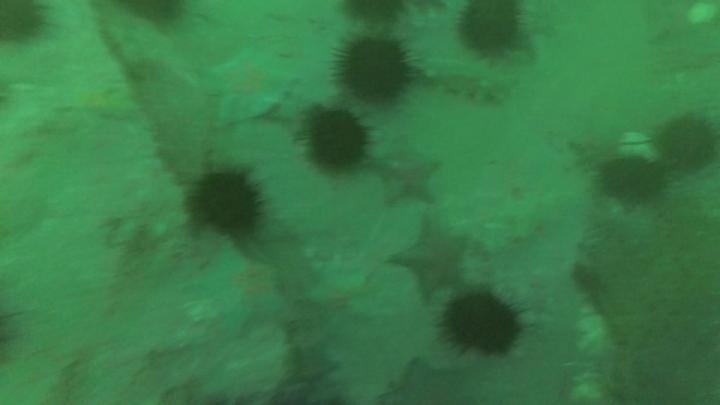echinus: (333, 34, 415, 104), (440, 290, 524, 358), (187, 169, 266, 238), (302, 107, 372, 174), (651, 111, 719, 172), (455, 1, 526, 59), (597, 155, 666, 204), (117, 1, 191, 31), (0, 1, 49, 46), (339, 1, 410, 28)
holothurian: (419, 54, 515, 108)
starfish: (186, 241, 290, 336), (200, 45, 295, 127), (387, 214, 472, 300), (302, 261, 379, 333), (373, 139, 444, 208), (376, 356, 476, 404), (57, 79, 135, 123), (286, 342, 341, 387), (567, 127, 623, 171)
